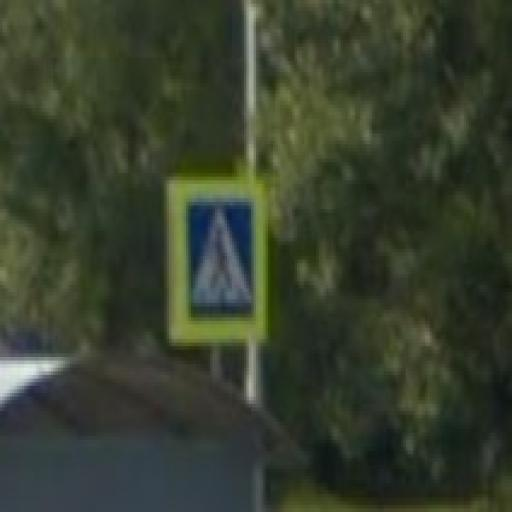traffic_sign: (165, 178, 269, 347)
